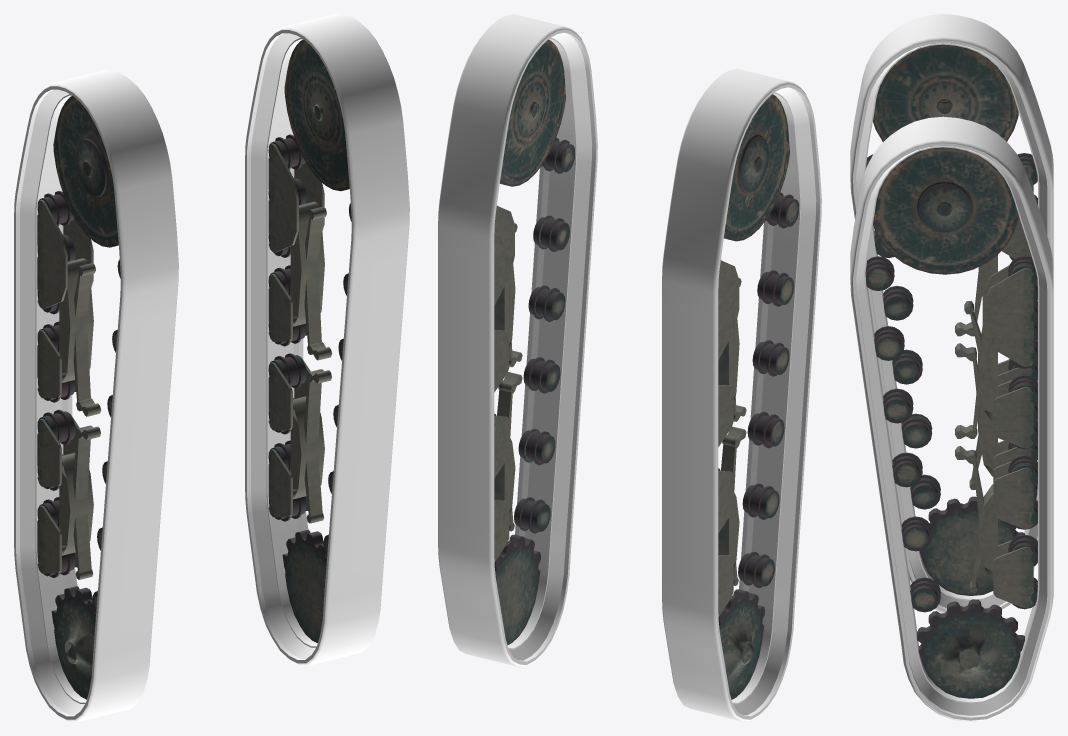
The model's file is Chassis.glb.
The picture shows the model from 3 angles, left to right: view 1: azimuth 30°, elevation 25°; view 2: azimuth 150°, elevation 25°; view 3: azimuth 270°, elevation 25°; orthographic projection. The views are drawn at different scales.
Visible parts, largest first — view 1: set_0_group_0, set_1_group_0, set_5_group_0, set_3_group_0, set_2_group_0, set_4_group_0; view 2: set_0_group_0, set_1_group_0, set_5_group_0, set_3_group_0, set_2_group_0, set_4_group_0; view 3: set_5_group_0, set_0_group_0, set_3_group_0, set_1_group_0, set_4_group_0, set_2_group_0.
Part boxes in pixels (x1,y1,x2,y2): set_0_group_0: (245,14,409,665); set_1_group_0: (14,70,178,721); set_5_group_0: (268,39,351,642); set_3_group_0: (37,95,120,699); set_2_group_0: (37,413,79,573); set_4_group_0: (268,356,310,517); set_0_group_0: (438,14,597,667); set_1_group_0: (662,68,821,721); set_5_group_0: (494,39,574,644); set_3_group_0: (718,94,799,699); set_2_group_0: (718,471,739,616); set_4_group_0: (494,416,509,561); set_5_group_0: (865,147,1037,698); set_0_group_0: (850,116,1053,721); set_3_group_0: (866,44,1037,595); set_1_group_0: (850,14,1053,613); set_4_group_0: (978,461,1033,608); set_2_group_0: (993,359,1033,469).
Bounding box in the file's own units: 1.74 × 3.69 × 1.17.
Materials: 6 (4 with a texture image).
